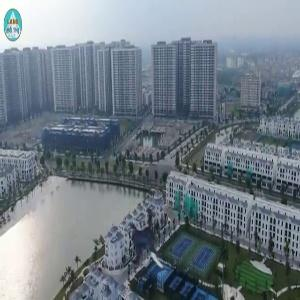drone: (108, 205, 188, 285)
